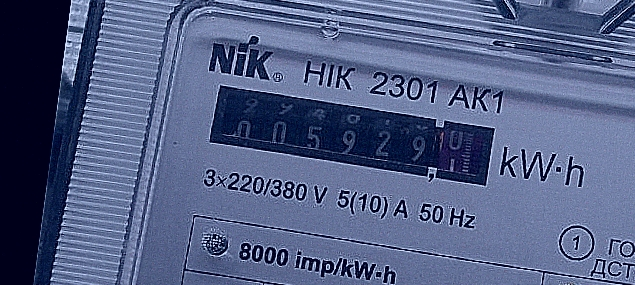0: (268, 117, 290, 147), (232, 114, 255, 140), (445, 128, 467, 153)
2: (371, 126, 394, 161)
5: (303, 122, 324, 152)
9: (335, 125, 360, 158), (407, 132, 430, 166), (240, 95, 260, 115)
screen: (201, 79, 503, 196)
